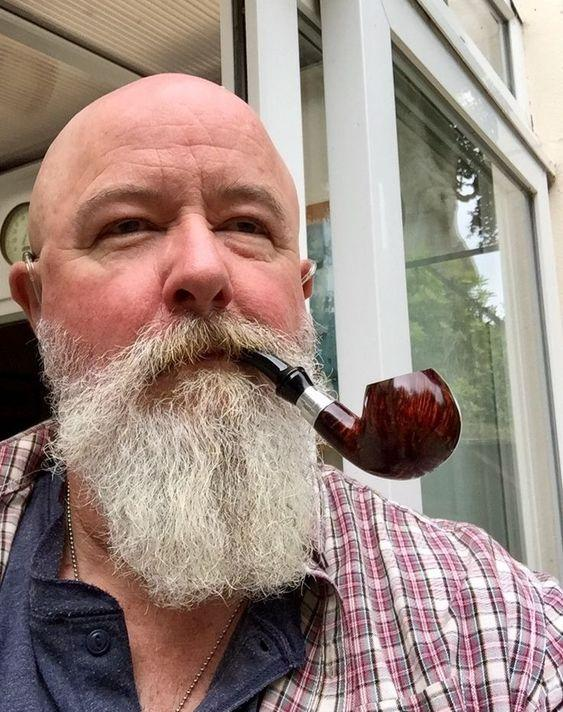trubka: (238, 349, 461, 479)
